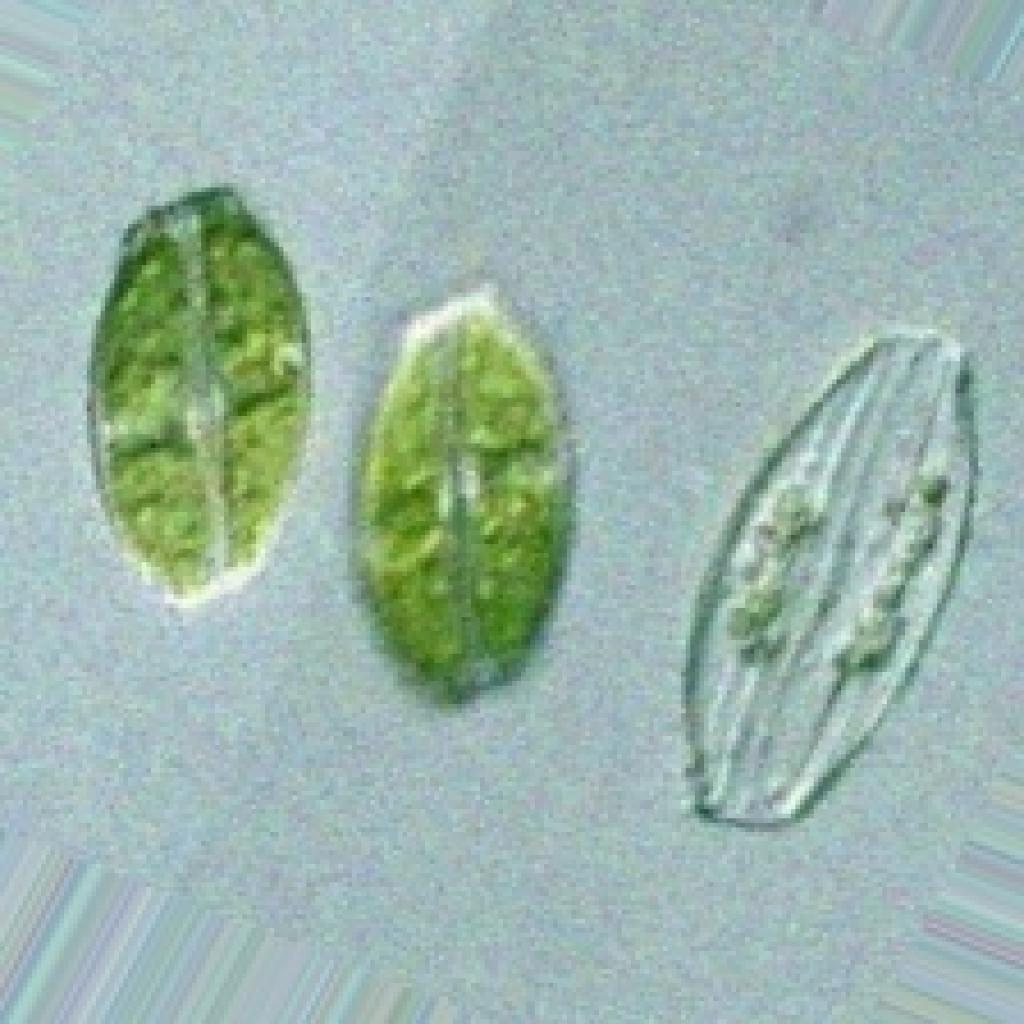Microalgae: (82, 178, 311, 608), (347, 279, 576, 704)
